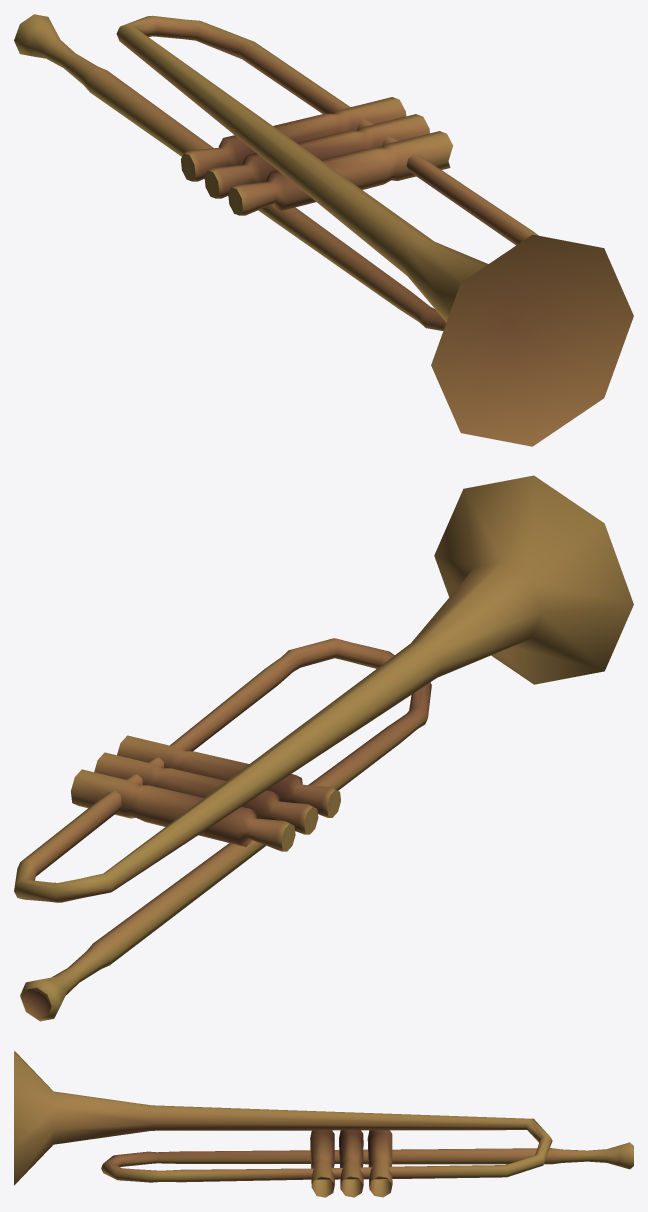
File: human-music-trumpet_v1.glb
3 renders of one model, top to bottom at view 1: azimuth 30°, elevation 25°; view 2: azimuth 150°, elevation 25°; view 3: azimuth 270°, elevation 25°, orthographic. The views are drawn at different scales.
Parts seen in each view (by area): view 1: Trumpet.001; view 2: Trumpet.001; view 3: Trumpet.001.
Part boxes in pixels (left/top/right/bottom): Trumpet.001: left=14, top=14, right=633, bottom=446; Trumpet.001: left=14, top=475, right=633, bottom=1021; Trumpet.001: left=14, top=1051, right=633, bottom=1197.
Bounding box in the file's own units: 0.152 × 0.1164 × 0.5.
